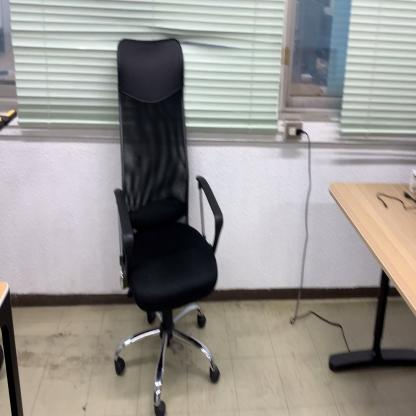chair: (113, 36, 228, 412)
